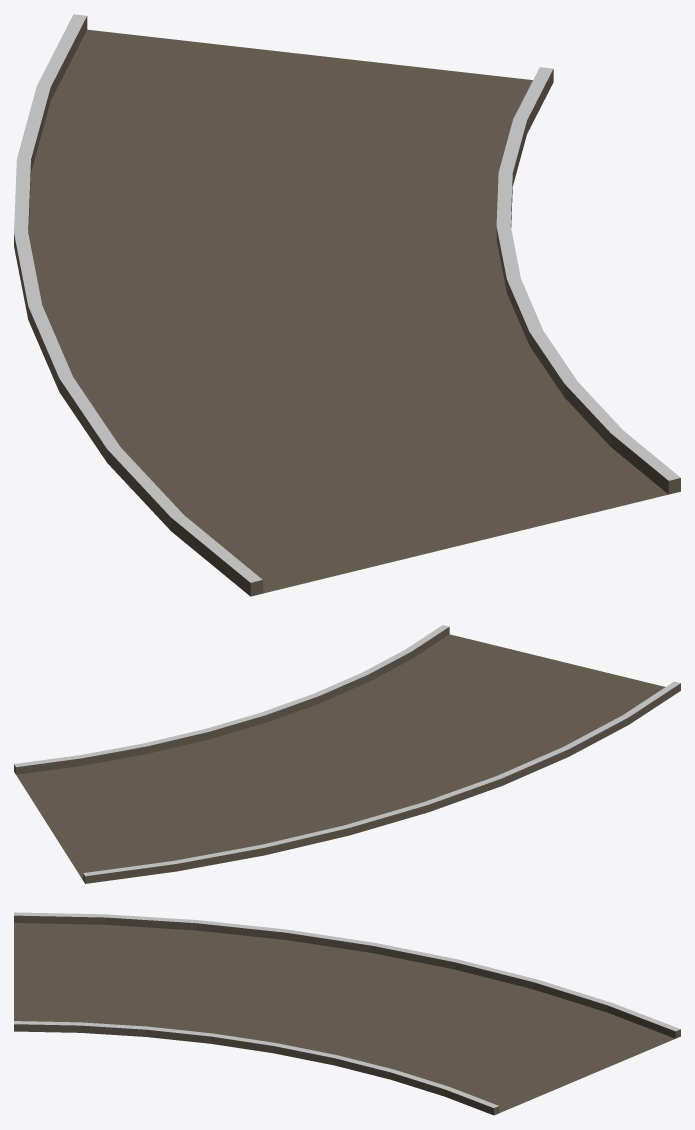
File: m-45.edge.fbx
3 renders of one model, top to bottom at view 1: azimuth 30°, elevation 25°; view 2: azimuth 150°, elevation 25°; view 3: azimuth 270°, elevation 25°, orthographic. The views are drawn at different scales.
Parts seen in each view (by area): view 1: m-45.edge; view 2: m-45.edge; view 3: m-45.edge.
Part boxes in pixels (left/top/right/bottom): m-45.edge: left=14, top=14, right=680, bottom=596; m-45.edge: left=14, top=625, right=680, bottom=883; m-45.edge: left=14, top=912, right=680, bottom=1115.
Bounding box in the file's own units: 4297 × 75 × 6187.
